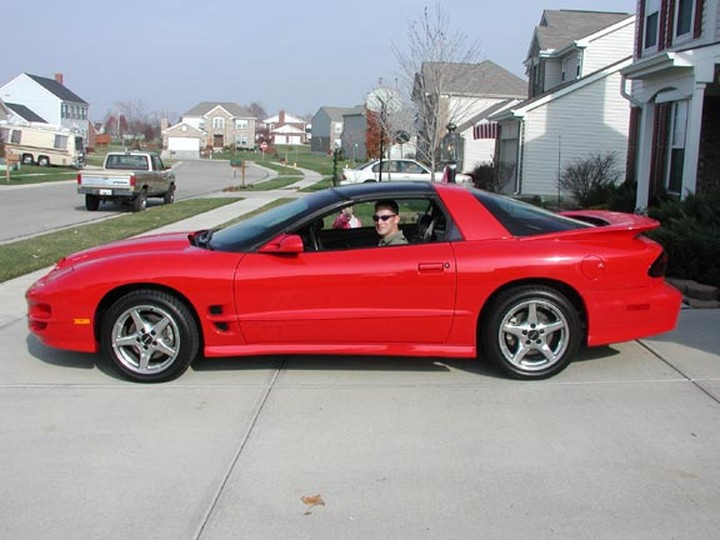car: (36, 172, 687, 386)
